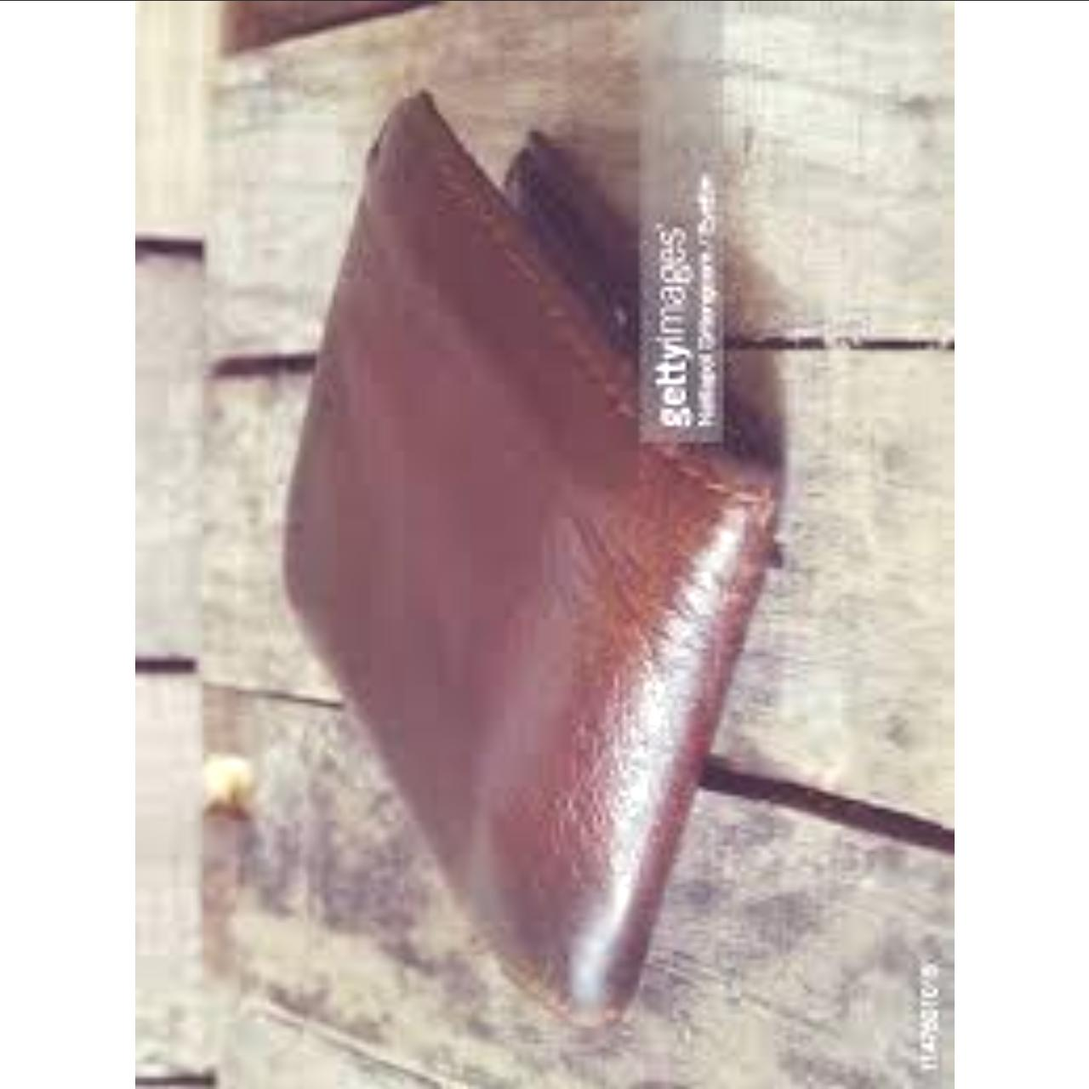wallet: (221, 114, 830, 1043)
